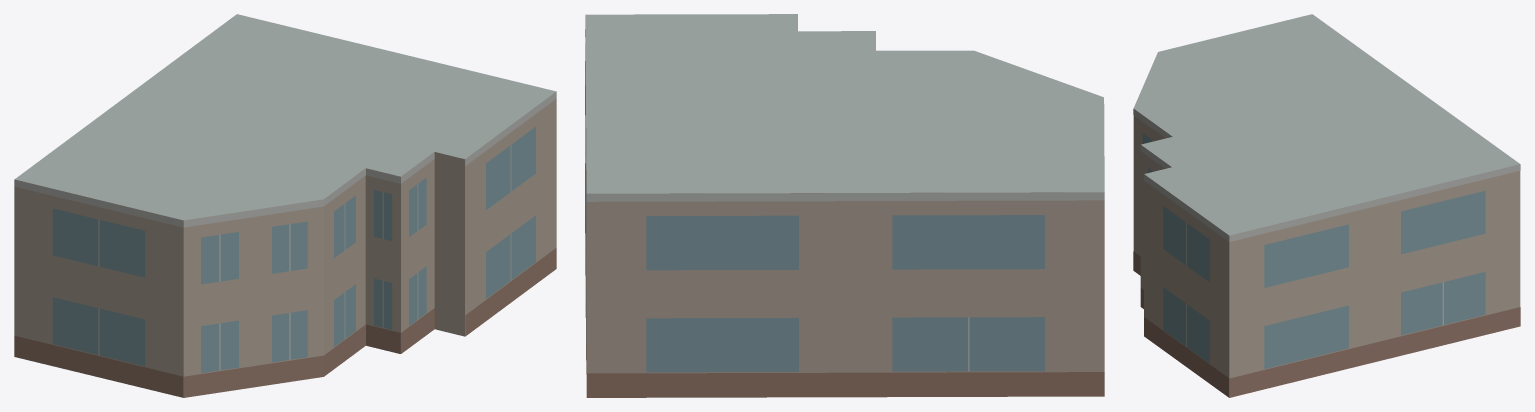
The model's file is survey-upis-33009174.glb.
3 views of the same model, side by side, from view 1: azimuth 30°, elevation 25°; view 2: azimuth 150°, elevation 25°; view 3: azimuth 270°, elevation 25° (orthographic). The views are drawn at different scales.
Parts seen in each view (by area): view 1: survey-upis-33009174.tmp; view 2: survey-upis-33009174.tmp; view 3: survey-upis-33009174.tmp.
Boxes of the visible parts, x1,y1,x2,y2 form: survey-upis-33009174.tmp: (14, 14, 556, 397); survey-upis-33009174.tmp: (585, 14, 1104, 397); survey-upis-33009174.tmp: (1133, 14, 1520, 397).
Bounding box in the file's own units: 17.88 × 6.1 × 13.2.
